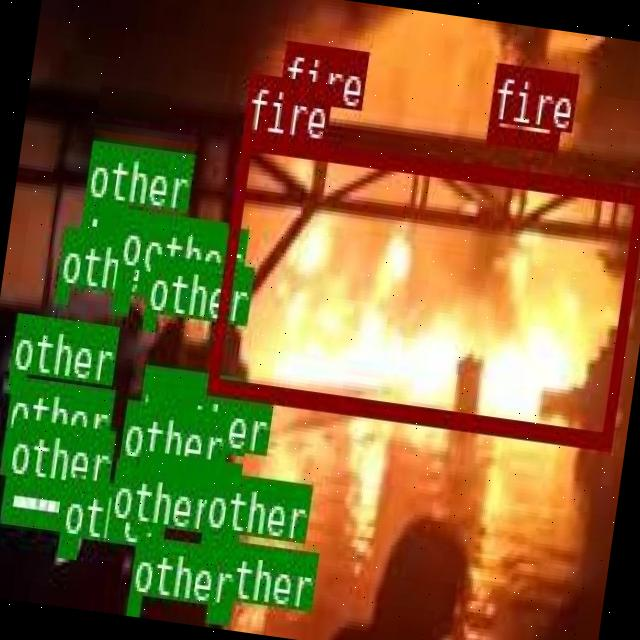fire: (206, 130, 640, 446), (485, 62, 566, 149), (277, 41, 337, 114)
